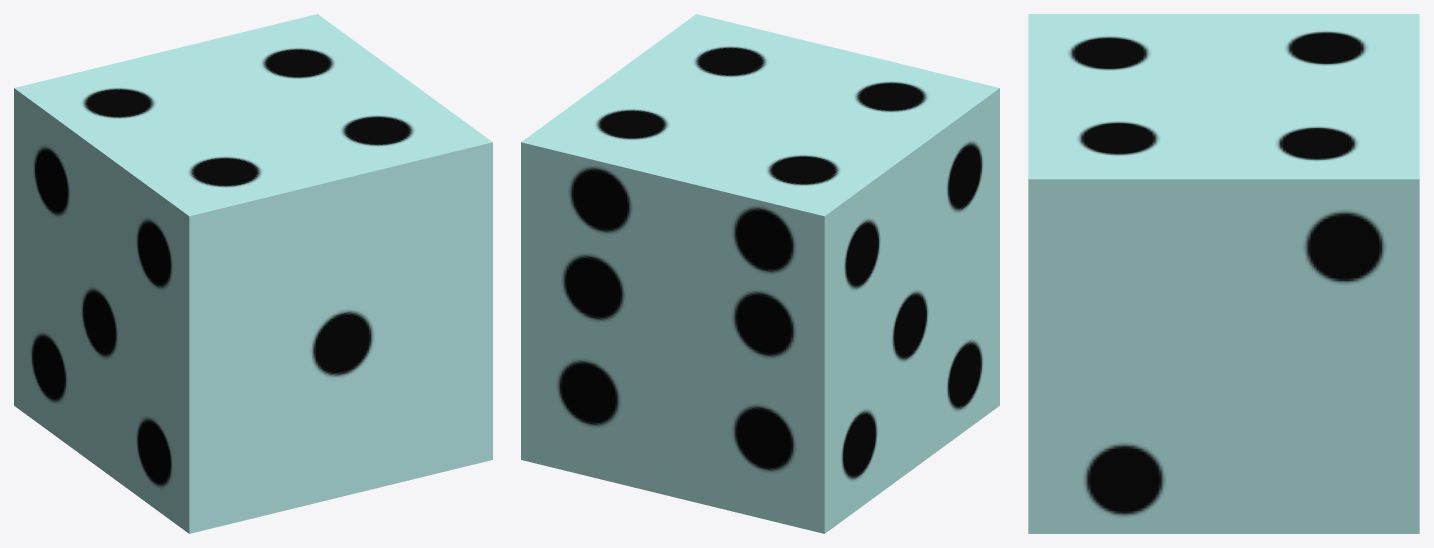
The model's file is Dice.fbx.
The picture shows the model from 3 angles, left to right: view 1: azimuth 30°, elevation 25°; view 2: azimuth 150°, elevation 25°; view 3: azimuth 270°, elevation 25°; orthographic projection. The views are drawn at different scales.
Visible parts, largest first — view 1: pCube3; view 2: pCube3; view 3: pCube3.
Part boxes in pixels (x1,y1,x2,y2): pCube3: (14,14,492,533); pCube3: (521,14,999,533); pCube3: (1028,14,1419,533).
Bounding box in the file's own units: 1 × 1 × 1.
1 material, 1 textured.
